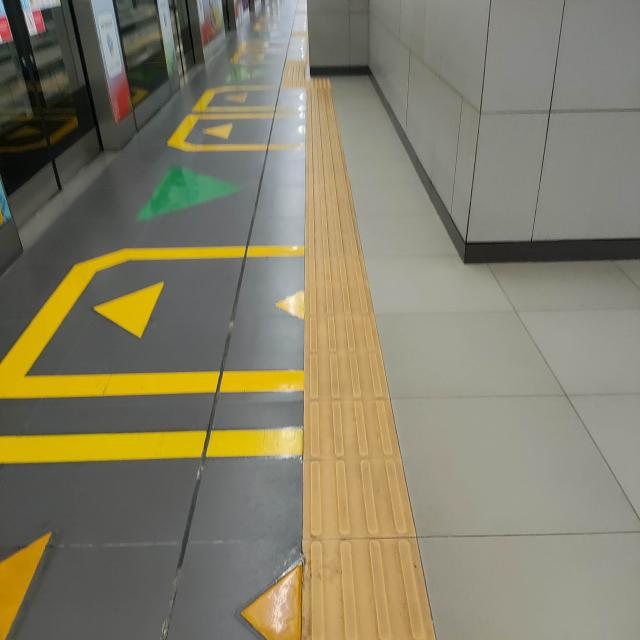lurus: (293, 111, 413, 640)
